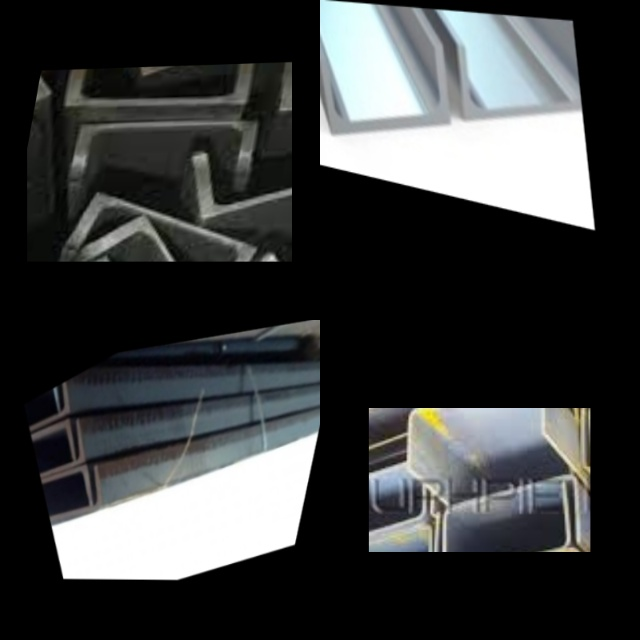Shveller: (322, 34, 452, 156), (457, 20, 585, 137), (67, 192, 262, 262), (187, 113, 292, 214), (447, 477, 580, 552), (75, 125, 256, 176), (438, 484, 570, 552), (409, 408, 542, 468), (69, 63, 253, 105), (85, 220, 245, 262), (369, 465, 433, 544), (41, 458, 108, 525), (32, 417, 88, 481), (41, 459, 95, 522), (369, 408, 444, 453), (369, 490, 425, 547), (369, 408, 430, 458), (31, 414, 79, 473), (24, 381, 72, 430), (369, 529, 431, 552)
